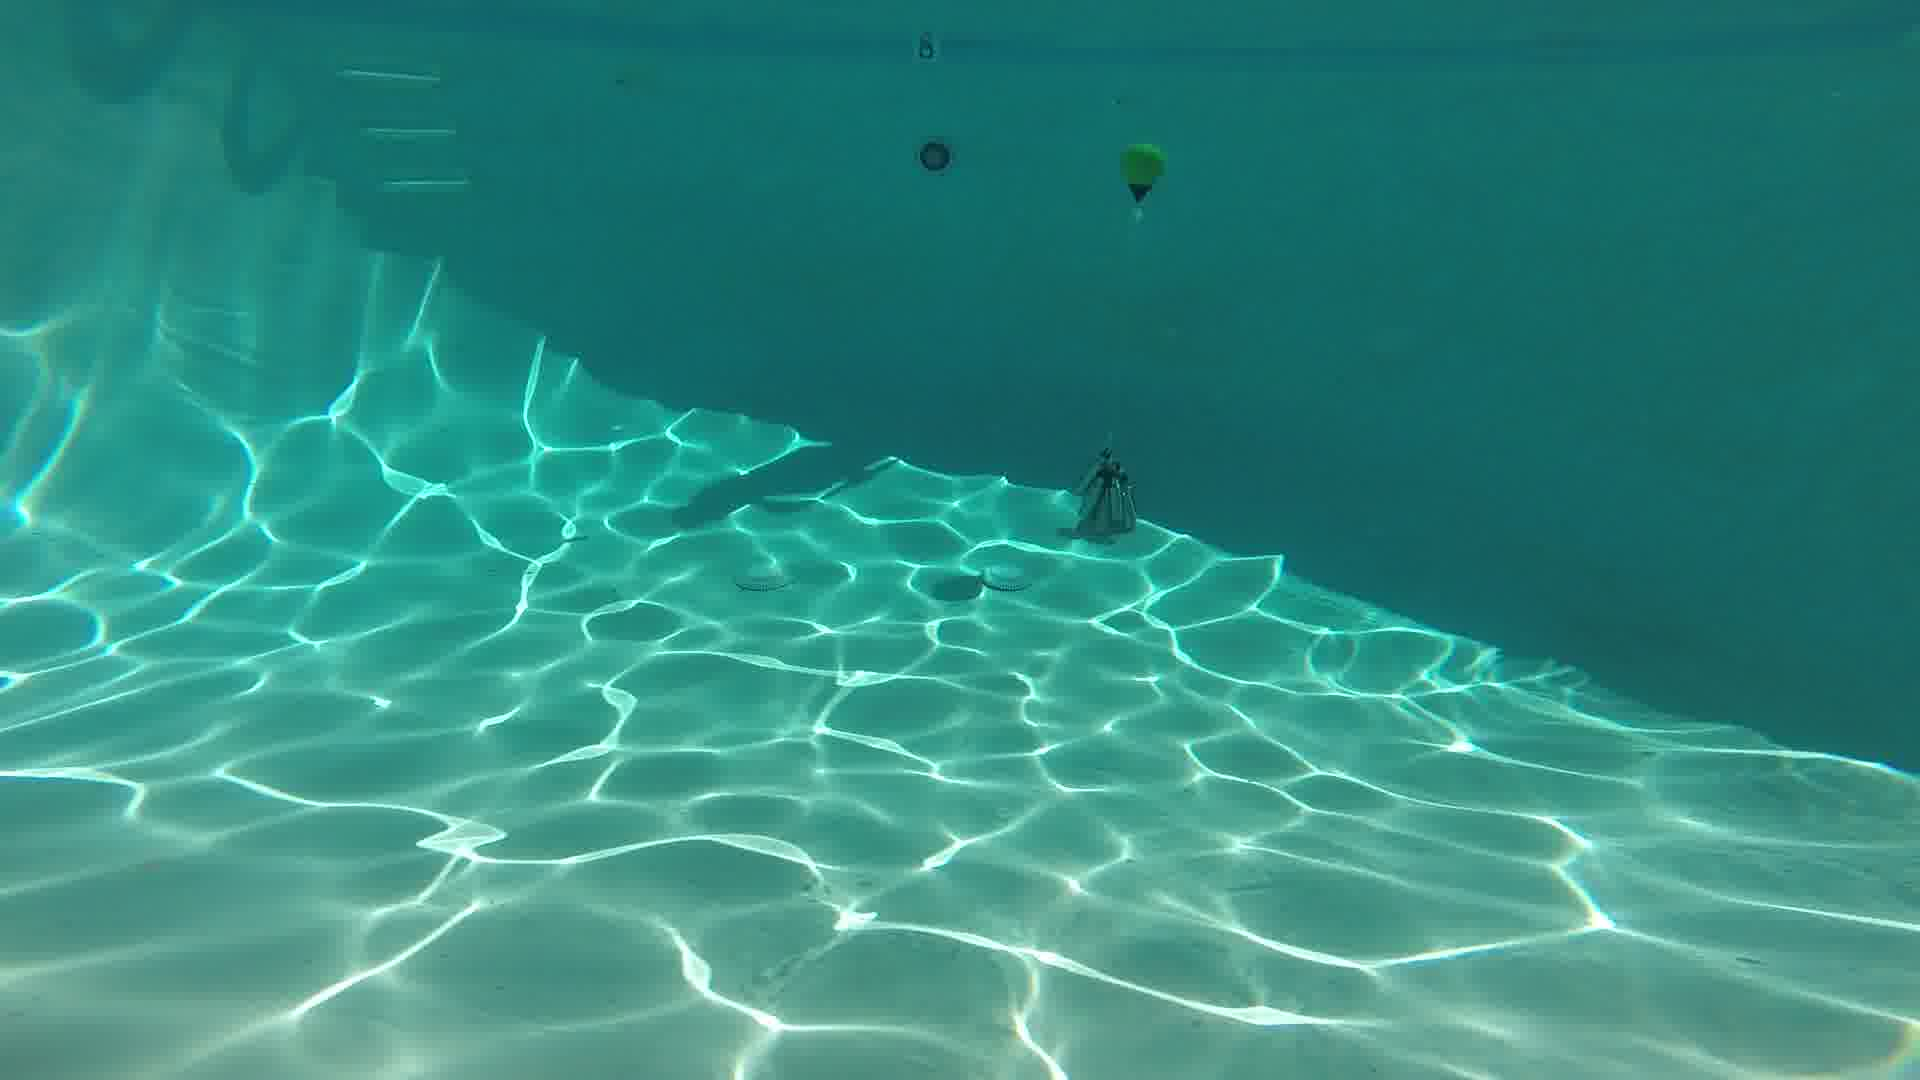yellow_buoy: (1122, 142, 1164, 202)
